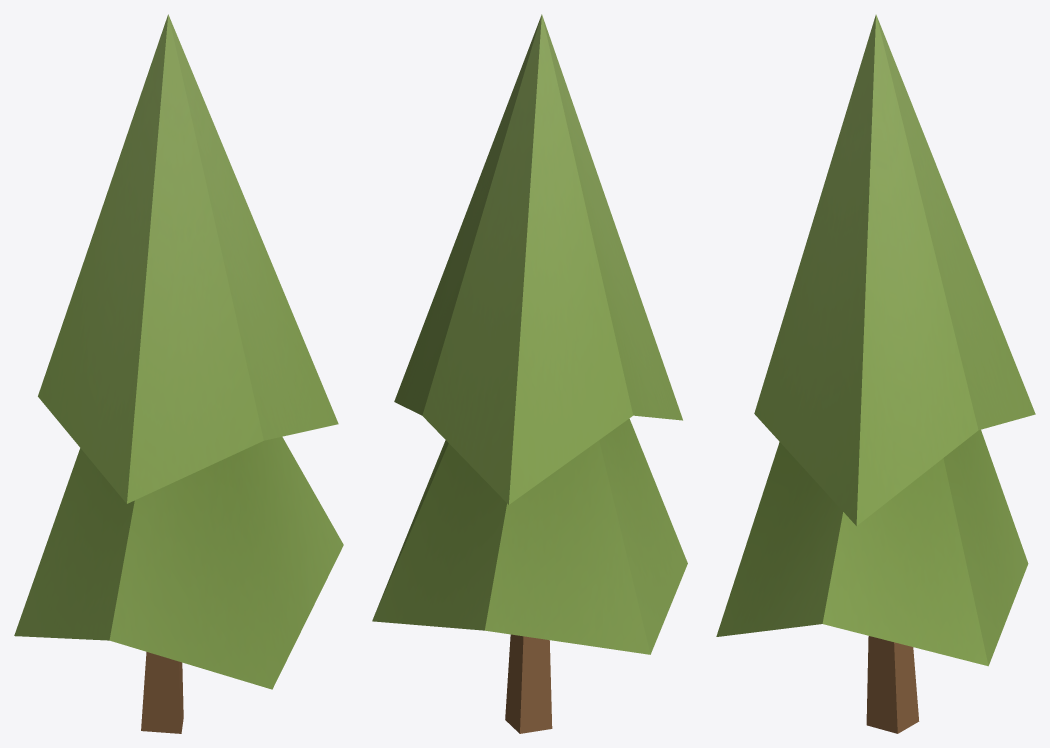
File: Pine_Tree_OneSided_s_07_LOD.fbx
The picture shows the model from 3 angles, left to right: view 1: azimuth 30°, elevation 25°; view 2: azimuth 150°, elevation 25°; view 3: azimuth 270°, elevation 25°; orthographic projection. The views are drawn at different scales.
Visible parts, largest first — view 1: Pine_Tree_OneSided_s_07_LOD0; view 2: Pine_Tree_OneSided_s_07_LOD0; view 3: Pine_Tree_OneSided_s_07_LOD0.
Boxes of the visible parts, left/top/right/bottom form: Pine_Tree_OneSided_s_07_LOD0: left=14, top=14, right=343, bottom=733; Pine_Tree_OneSided_s_07_LOD0: left=372, top=14, right=687, bottom=733; Pine_Tree_OneSided_s_07_LOD0: left=716, top=14, right=1035, bottom=733.
Size of what is drawn, in the model's own units: 79.55 by 186 by 76.31.
